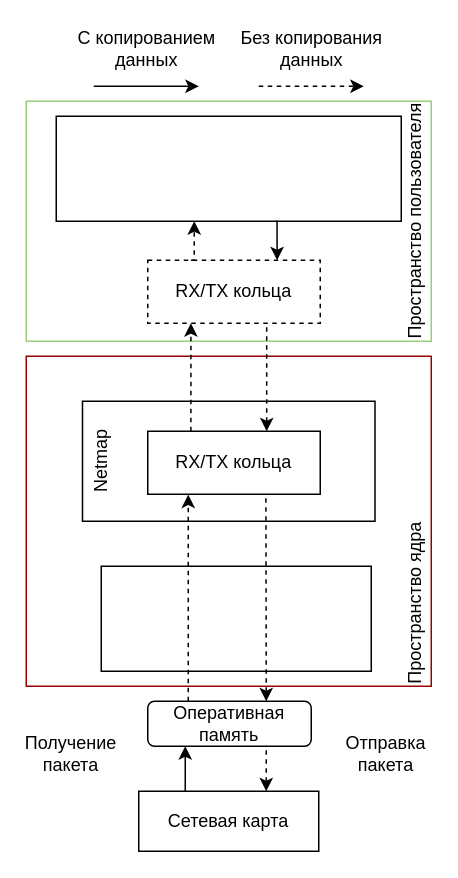
The diagram is 458 pixels wide and 878 high, and some of its shapes have lost their labels. The shapes that lost their labels are listed below. From the top down, each one's centre as x and y in pixels, then its label:
At [228,168]: "Программа".
At [235,618]: "Драйвер".
